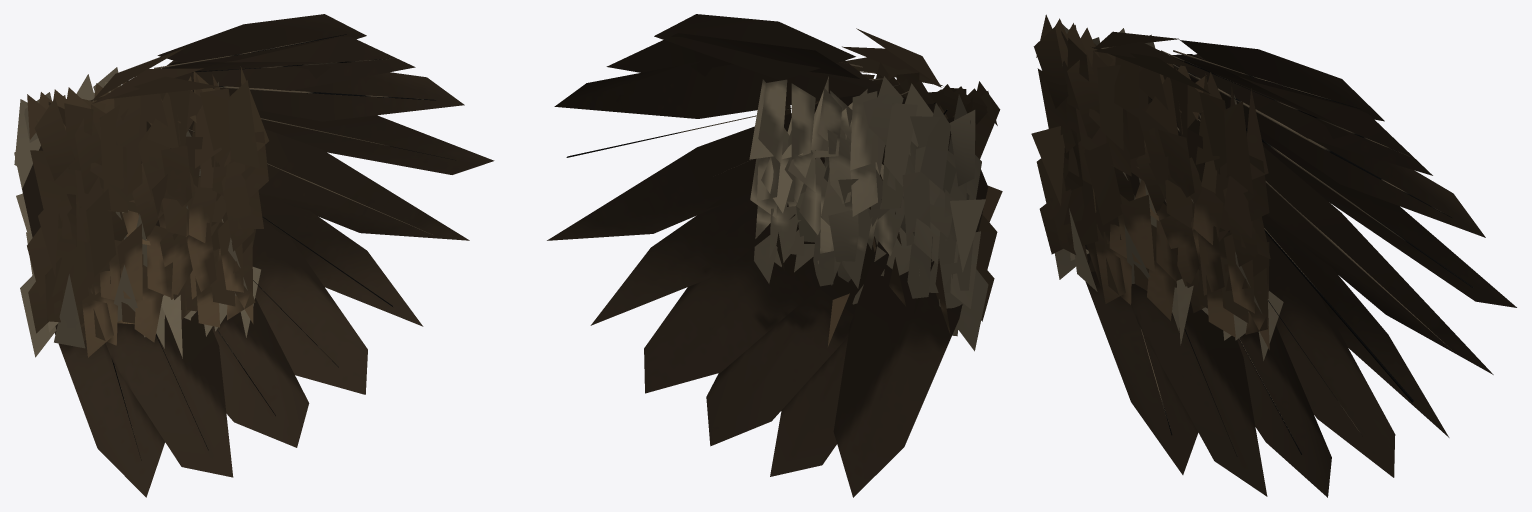
Rendered from bird_wrist_right.obj.
3 renders of one model, left to right at view 1: azimuth 30°, elevation 25°; view 2: azimuth 150°, elevation 25°; view 3: azimuth 330°, elevation 25°, orthographic. The views are drawn at different scales.
Visible parts, largest first — view 1: PIECE_BIRD_WRIST_1; view 2: PIECE_BIRD_WRIST_1; view 3: PIECE_BIRD_WRIST_1.
Boxes of the visible parts, <box> form: PIECE_BIRD_WRIST_1: <box>14,14,494,497</box>; PIECE_BIRD_WRIST_1: <box>547,14,1002,497</box>; PIECE_BIRD_WRIST_1: <box>1031,14,1516,497</box>.
Size of the model in its own units: 0.3097 by 0.2864 by 0.0305.
1 material, 1 textured.
